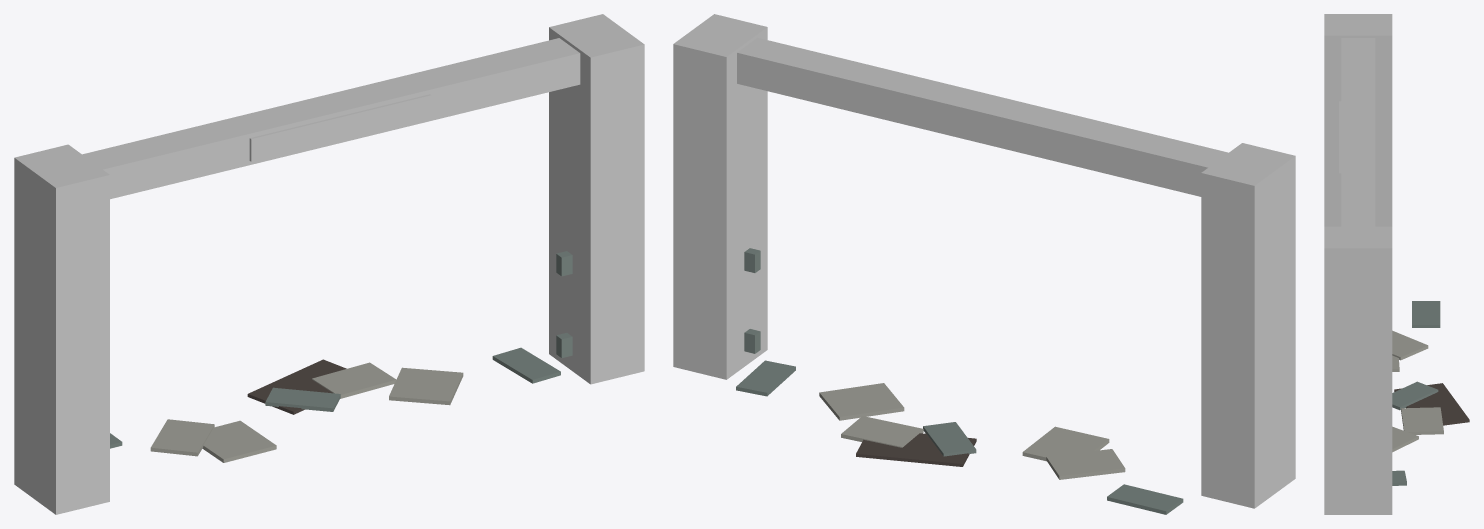
Rendered from SM_PuertaVehiculos_v4_Blindada_e3_Brecha_LOD0.fbx.
3 views of the same model, side by side, from view 1: azimuth 30°, elevation 25°; view 2: azimuth 150°, elevation 25°; view 3: azimuth 270°, elevation 25° (orthographic). The views are drawn at different scales.
Visible parts, largest first — view 1: SM_bloques.puerta_estados_v19_LOD0, Hoja_E; view 2: SM_bloques.puerta_estados_v19_LOD0, Hoja_E; view 3: SM_bloques.puerta_estados_v19_LOD0.
Boxes of the visible parts, left/top/right/bottom form: SM_bloques.puerta_estados_v19_LOD0: left=14, top=14, right=644, bottom=514; Hoja_E: left=556, top=251, right=572, bottom=357; SM_bloques.puerta_estados_v19_LOD0: left=673, top=14, right=1295, bottom=514; Hoja_E: left=744, top=248, right=760, bottom=353; SM_bloques.puerta_estados_v19_LOD0: left=1324, top=14, right=1469, bottom=514.
Bounding box in the file's own units: 9.8 × 5.2 × 2.57.
